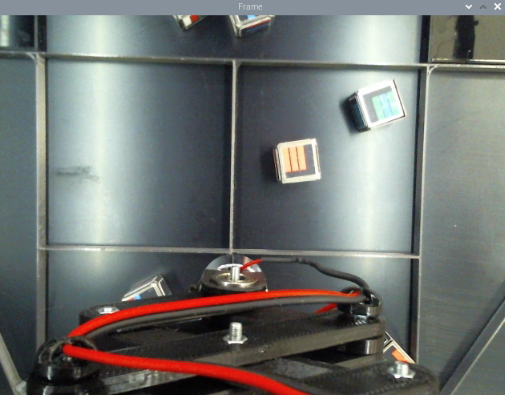Cube: (350, 71, 410, 137), (270, 134, 324, 191)
